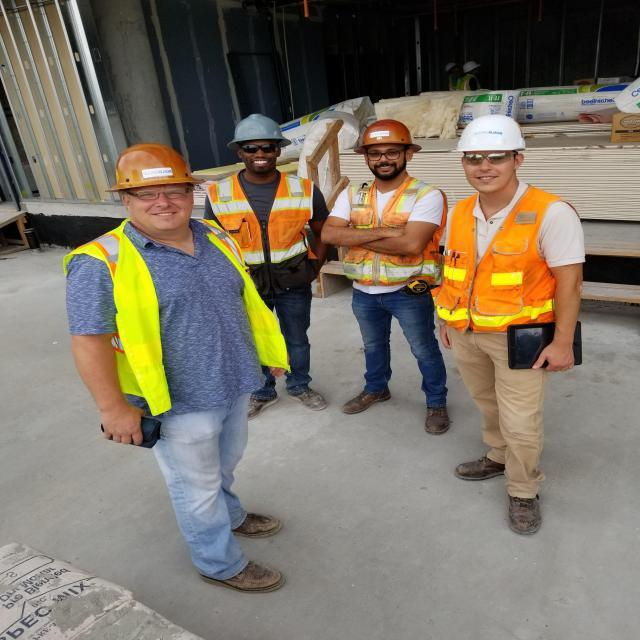reflective_jacket: (64, 219, 283, 411), (436, 188, 570, 330), (340, 178, 438, 287), (208, 170, 316, 265), (450, 72, 479, 91)
safety_helmet: (108, 139, 199, 192), (453, 112, 529, 153), (224, 111, 294, 147), (351, 118, 420, 150), (461, 60, 481, 73)
